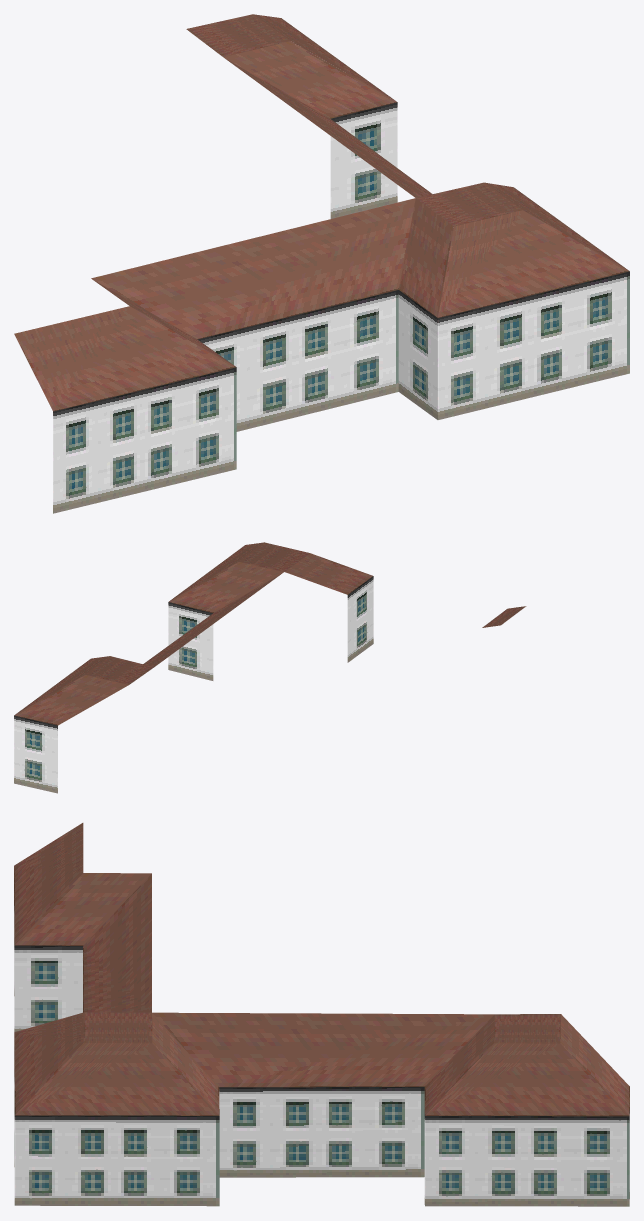
Rendered from aaAApart02.glb.
The picture shows the model from 3 angles, top to bottom: view 1: azimuth 30°, elevation 25°; view 2: azimuth 150°, elevation 25°; view 3: azimuth 270°, elevation 25°; orthographic projection. The views are drawn at different scales.
Visible parts, largest first — view 1: aaAApart02; view 2: aaAApart02; view 3: aaAApart02.
Boxes of the visible parts, left/top/right/bottom form: aaAApart02: left=14, top=14, right=629, bottom=513; aaAApart02: left=14, top=542, right=526, bottom=793; aaAApart02: left=14, top=823, right=629, bottom=1206.
Bounding box in the file's own units: 7416 × 1882 × 7753.
1 material, 1 textured.
